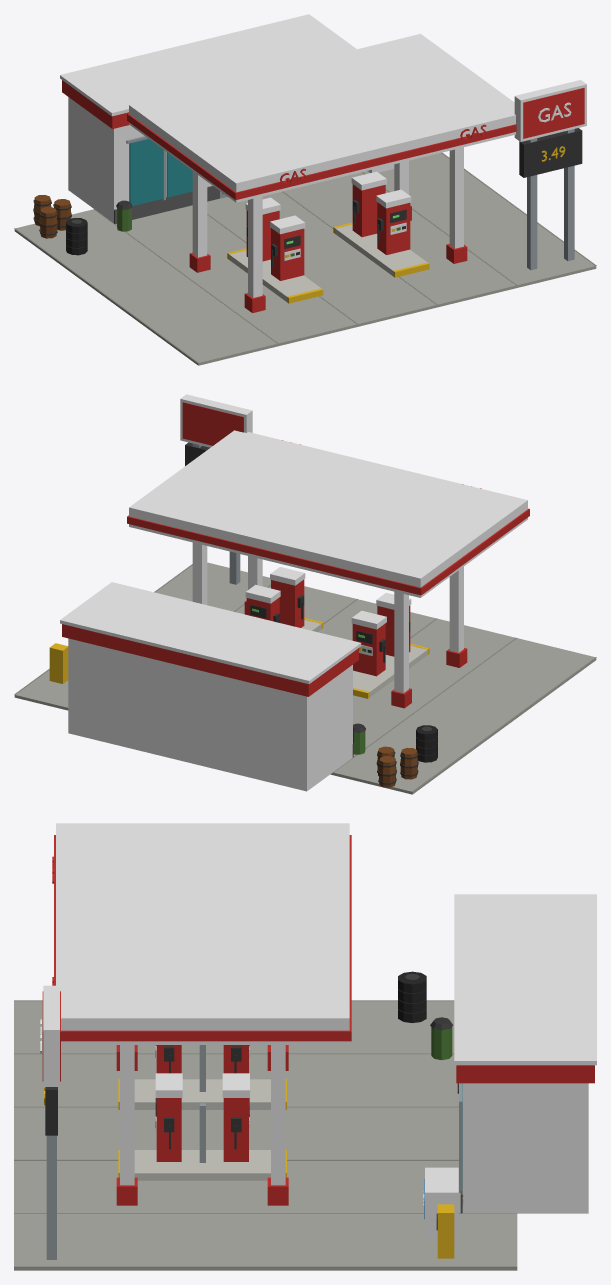
Rendered from Building_GasStation.fbx.
3 renders of one model, top to bottom at view 1: azimuth 30°, elevation 25°; view 2: azimuth 150°, elevation 25°; view 3: azimuth 270°, elevation 25°, orthographic. The views are drawn at different scales.
Parts seen in each view (by area): view 1: Building_GasStation; view 2: Building_GasStation; view 3: Building_GasStation.
Part boxes in pixels (<box>): Building_GasStation: <box>14,14,596,365</box>; Building_GasStation: <box>14,394,596,794</box>; Building_GasStation: <box>14,823,596,1270</box>.
Bounding box in the file's own units: 15.08 × 6.35 × 13.9.
